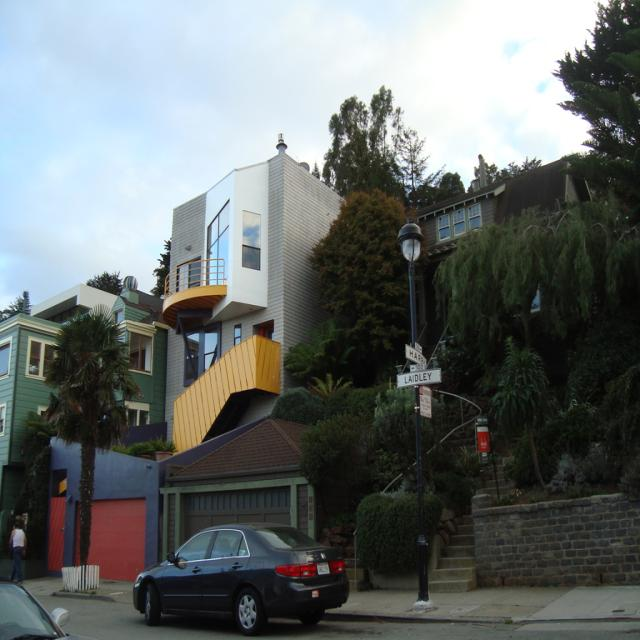car: (132, 515, 347, 636)
